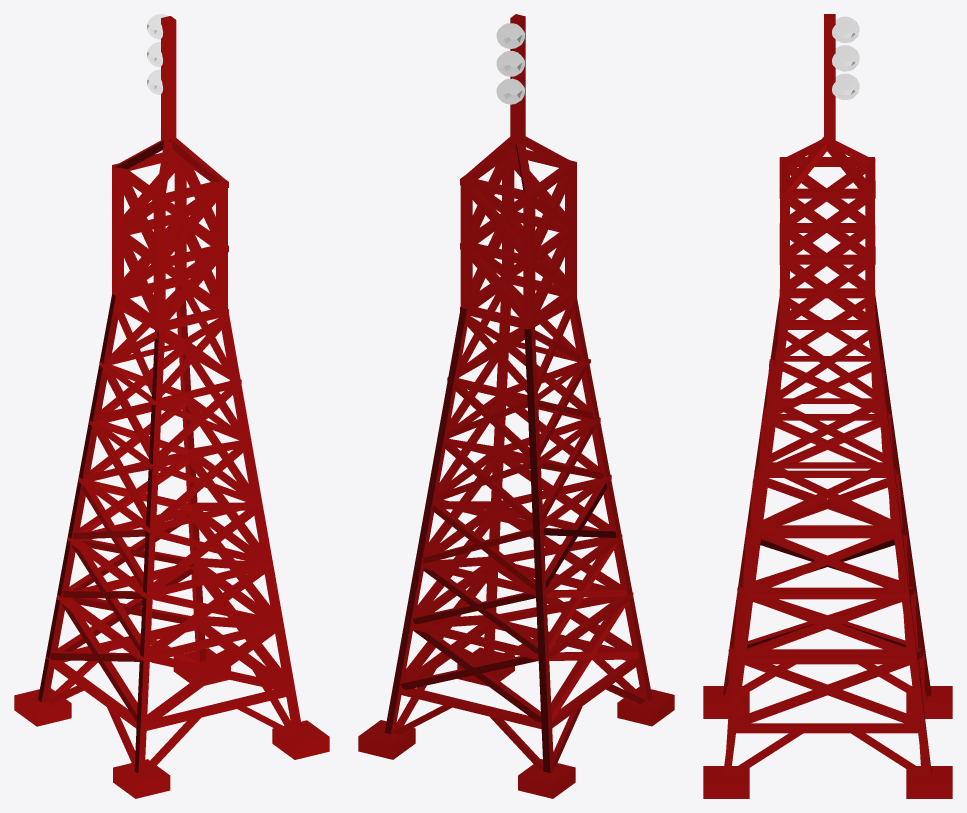
The model's file is Radio tower.obj.
3 renders of one model, left to right at view 1: azimuth 30°, elevation 25°; view 2: azimuth 150°, elevation 25°; view 3: azimuth 270°, elevation 25°, orthographic. The views are drawn at different scales.
Parts seen in each view (by area): view 1: Box20184, Object002; view 2: Box20184, Object002; view 3: Box20184, Object002.
Part boxes in pixels (x1,y1,x2,y2): Box20184: (14, 16, 329, 798); Object002: (147, 14, 167, 94); Box20184: (358, 14, 674, 798); Object002: (496, 23, 524, 104); Box20184: (703, 14, 952, 798); Object002: (832, 16, 859, 99).
Bounding box in the file's own units: 4031 × 14143 × 4360.
